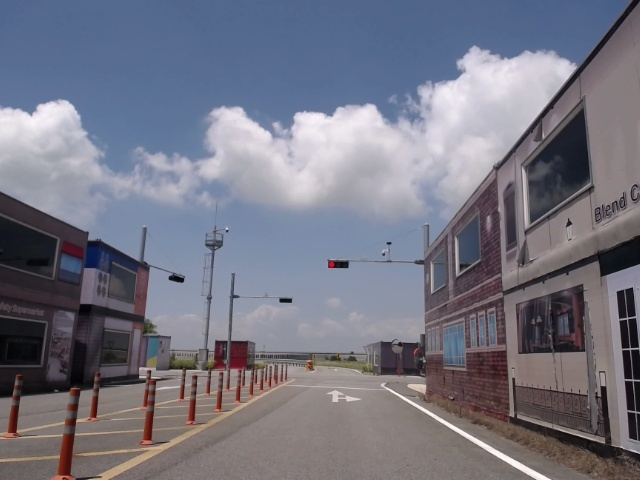red_3: (328, 260, 347, 269)
